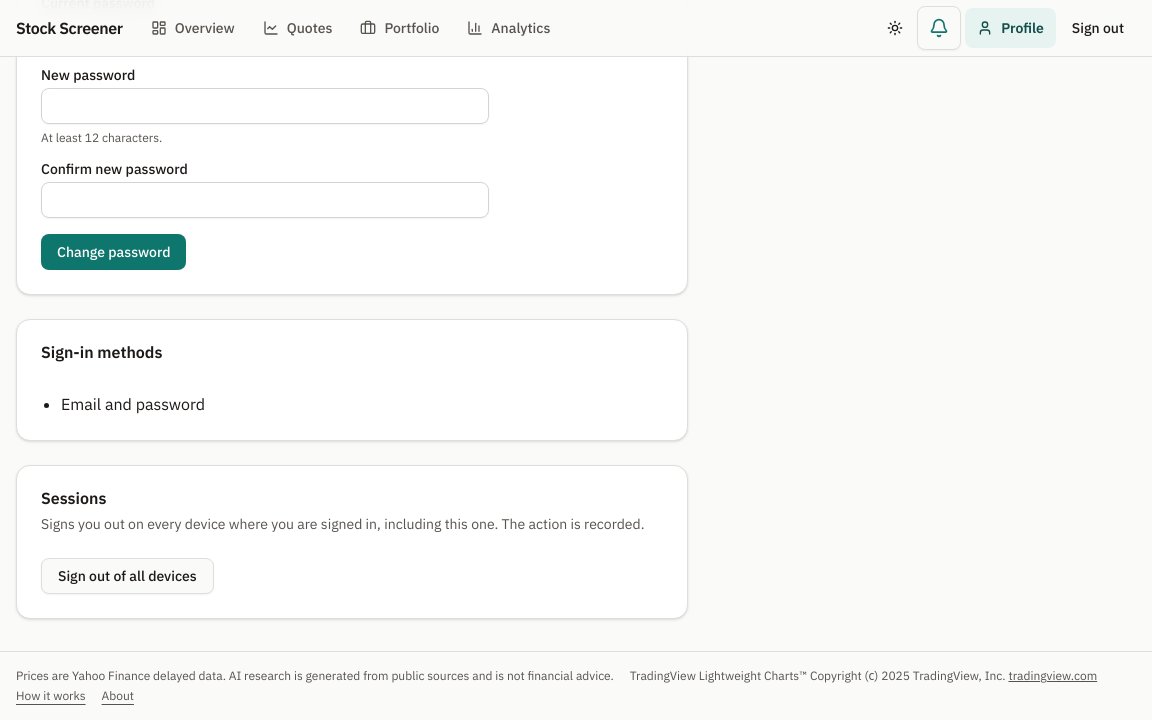
Test: Security: providers and sessions › lets the user back out of the confirmation
The width and height of the screenshot is (1152, 720).
(page scrolled)
Step 1. Click the button "Sign out of all devices" → (127, 576), box left=41, top=558, right=214, bottom=594
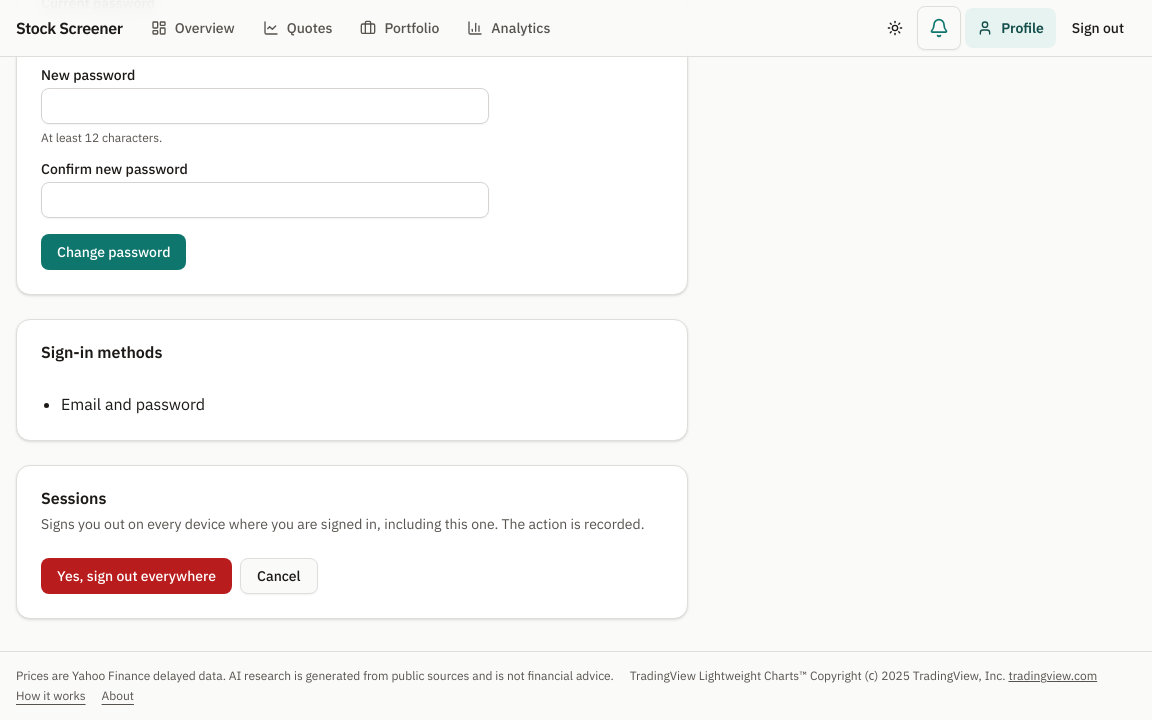
Step 2. Click the button "Cancel" → (279, 576), box left=240, top=558, right=318, bottom=594
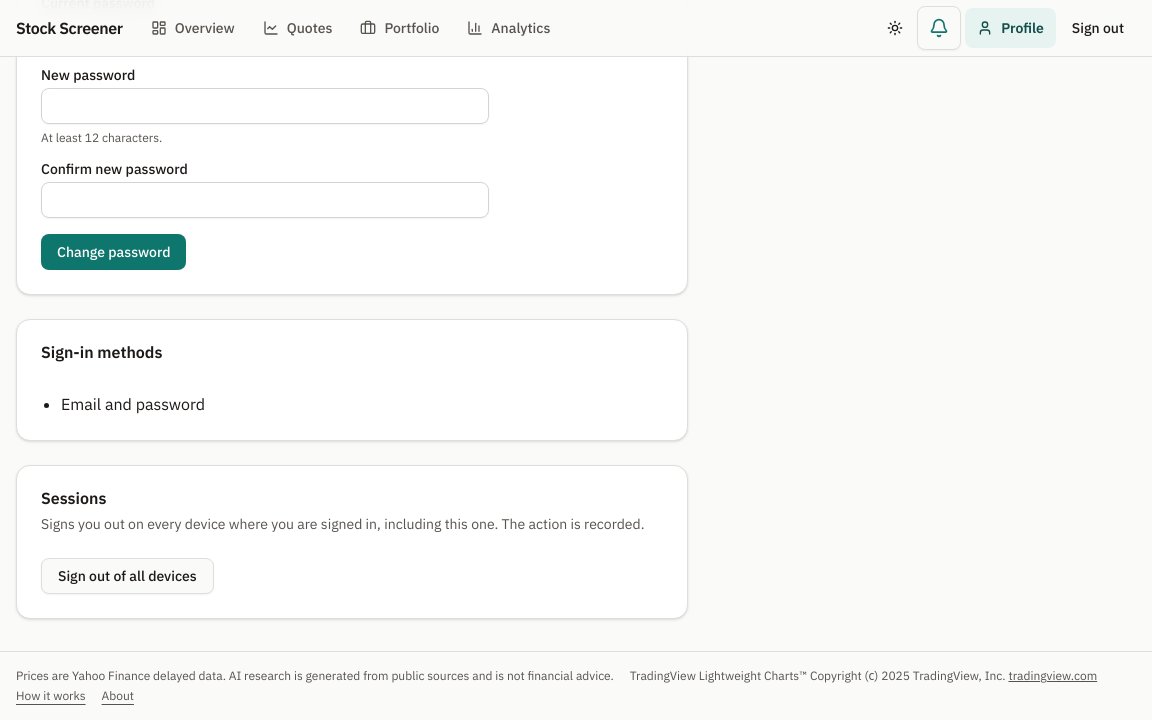
Expected: the button "Yes, sign out everywhere" is gone
